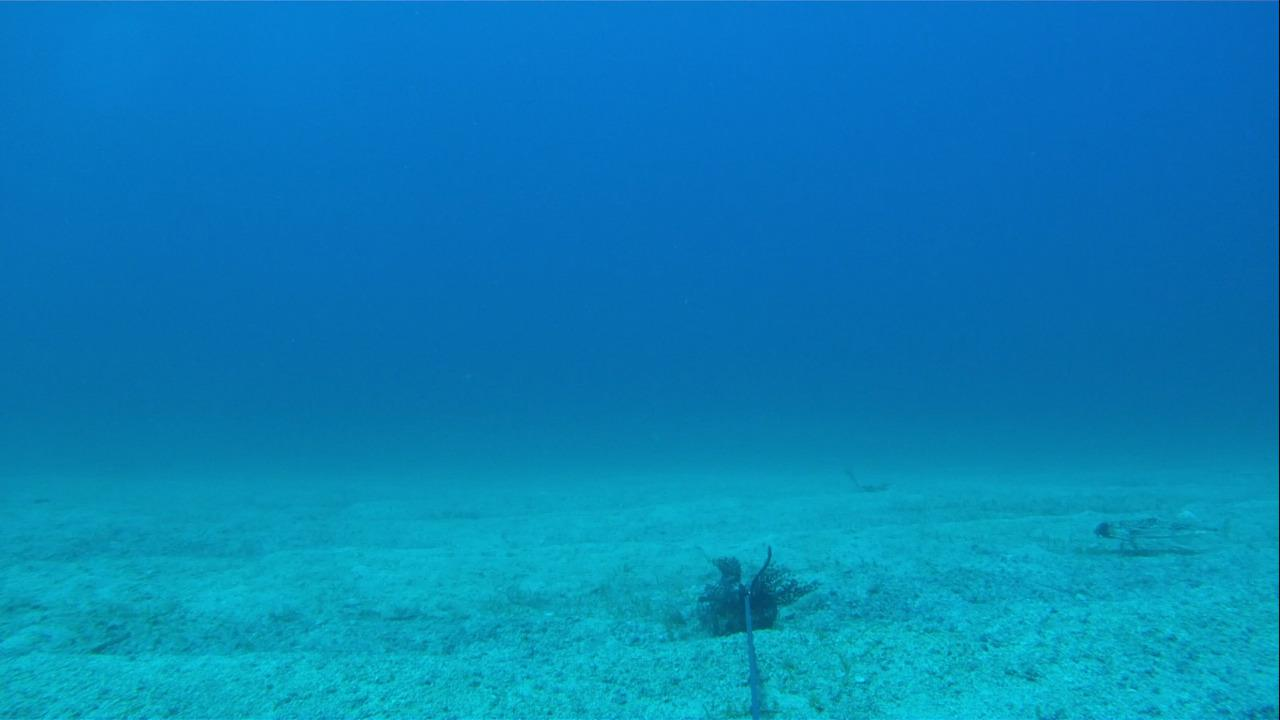dactylopterus: (1089, 499, 1231, 563)
